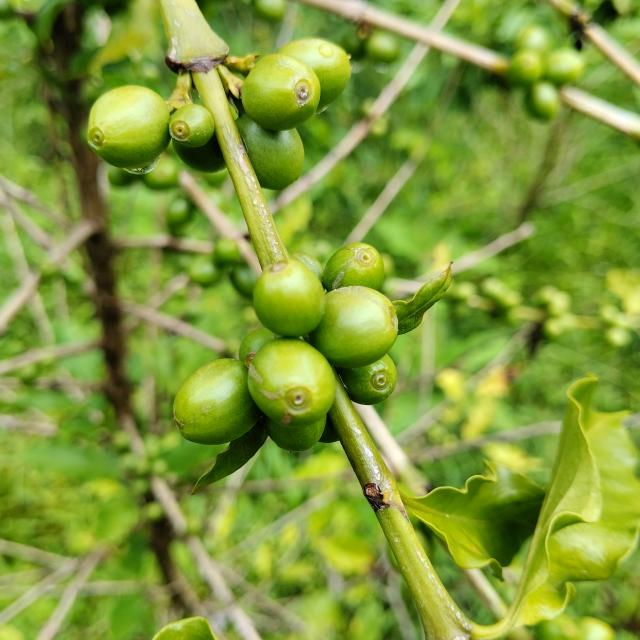green: (247, 338, 336, 428), (172, 359, 262, 445), (309, 286, 398, 368), (87, 85, 170, 169), (241, 53, 321, 130), (253, 259, 325, 337), (278, 37, 351, 112), (235, 113, 304, 190), (336, 354, 397, 405), (322, 242, 385, 291), (264, 416, 326, 452), (169, 104, 214, 147), (238, 328, 279, 367)
